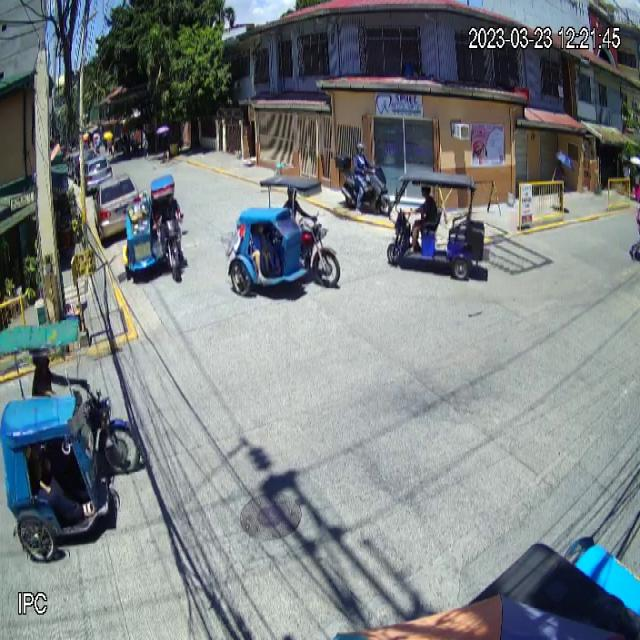Tricycle: (0, 320, 143, 563), (226, 174, 342, 298), (122, 174, 189, 283)
